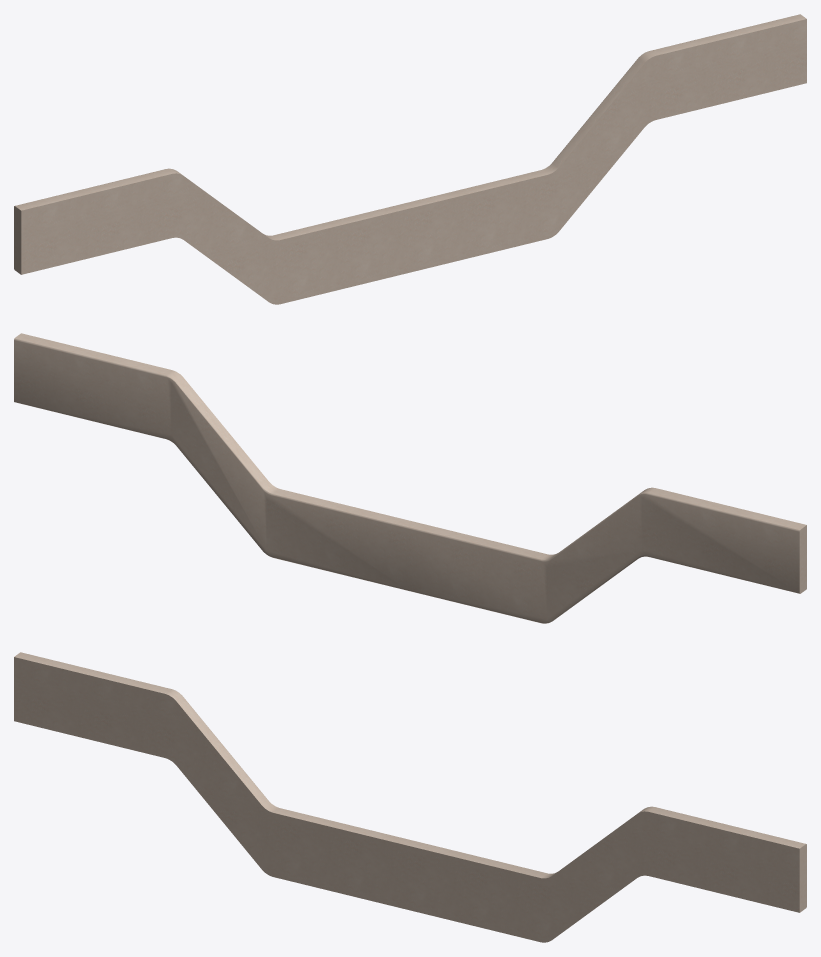
The model's file is Chapa01_caños.fbx.
The picture shows the model from 3 angles, top to bottom: view 1: azimuth 30°, elevation 25°; view 2: azimuth 150°, elevation 25°; view 3: azimuth 330°, elevation 25°; orthographic projection.
Parts seen in each view (by area): view 1: chapa01_caños; view 2: chapa01_caños; view 3: chapa01_caños.
Boxes of the visible parts, x1,y1,x2,y2 form: chapa01_caños: [14, 14, 806, 304]; chapa01_caños: [14, 333, 806, 623]; chapa01_caños: [14, 652, 806, 942].
Size of the model in its own units: 259 by 49.48 by 4.13.
